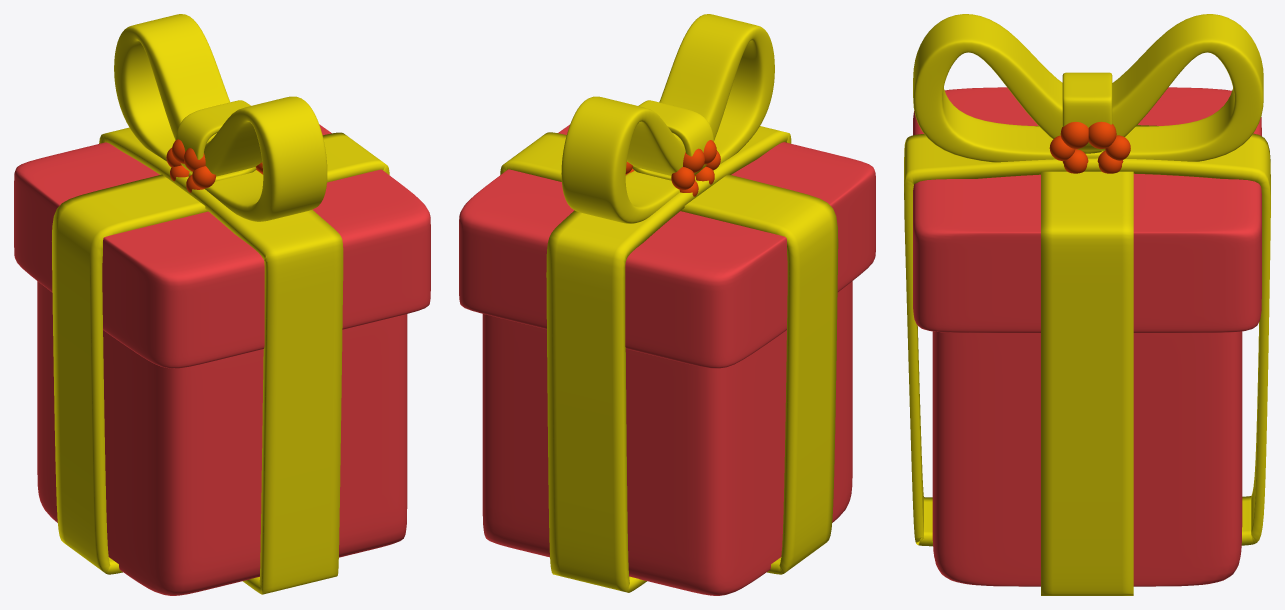
The picture shows the model from 3 angles, left to right: view 1: azimuth 30°, elevation 25°; view 2: azimuth 150°, elevation 25°; view 3: azimuth 270°, elevation 25°; orthographic projection. The views are drawn at different scales.
Parts seen in each view (by area): view 1: Cube, Cube.001, Cube.002, Cube.003, Cube.004, Cube.005; view 2: Cube, Cube.001, Cube.002, Cube.003, Cube.004, Cube.005; view 3: Cube, Cube.001, Cube.003, Cube.004, Cube.002, Cube.005, Sphere.009, Sphere.008.
Boxes of the visible parts, <box> form: Cube: <box>37,281,407,595</box>; Cube.001: <box>14,124,430,368</box>; Cube.002: <box>99,127,343,594</box>; Cube.003: <box>52,132,389,574</box>; Cube.004: <box>114,14,327,221</box>; Cube.005: <box>176,100,256,181</box>; Cube: <box>482,281,852,595</box>; Cube.001: <box>459,124,875,368</box>; Cube.002: <box>546,126,791,592</box>; Cube.003: <box>500,132,838,574</box>; Cube.004: <box>561,14,774,223</box>; Cube.005: <box>632,100,713,180</box>; Cube: <box>932,331,1242,586</box>; Cube.001: <box>913,87,1261,332</box>; Cube.003: <box>1041,171,1133,595</box>; Cube.004: <box>913,14,1263,162</box>; Cube.002: <box>904,125,1270,546</box>; Cube.005: <box>1062,72,1112,151</box>; Sphere.009: <box>1088,121,1116,148</box>; Sphere.008: <box>1060,122,1088,148</box>.
Size of the model in its own units: 237 by 356 by 237.
